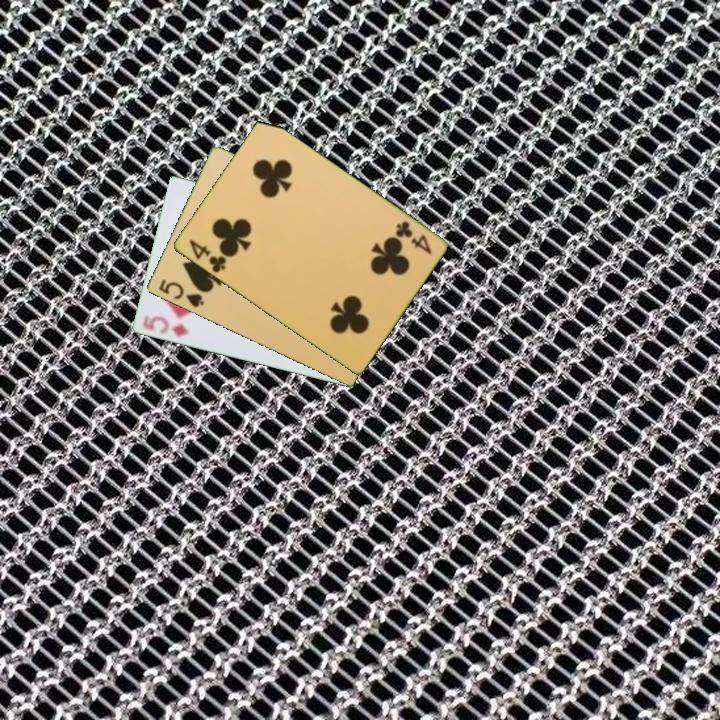4c: (185, 236, 229, 276), (391, 217, 435, 257)
5d: (139, 312, 191, 340)
5s: (155, 275, 207, 311)
